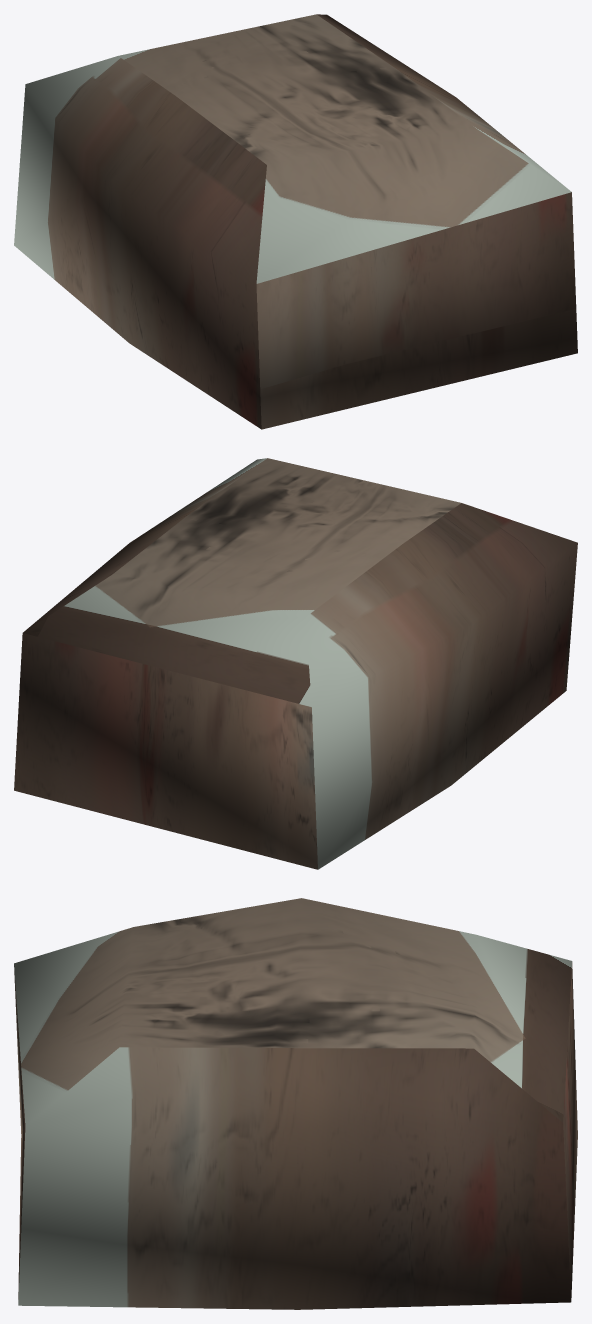
The model's file is md_alley_brick_02_v2.fbx.
3 renders of one model, top to bottom at view 1: azimuth 30°, elevation 25°; view 2: azimuth 150°, elevation 25°; view 3: azimuth 270°, elevation 25°, orthographic. The views are drawn at different scales.
Visible parts, largest first — view 1: pCube2; view 2: pCube2; view 3: pCube2.
Part boxes in pixels (<box>): pCube2: <box>14,14,577,429</box>; pCube2: <box>14,458,577,869</box>; pCube2: <box>14,898,577,1309</box>.
Size of the model in its own units: 22.9 by 14.86 by 28.99.
